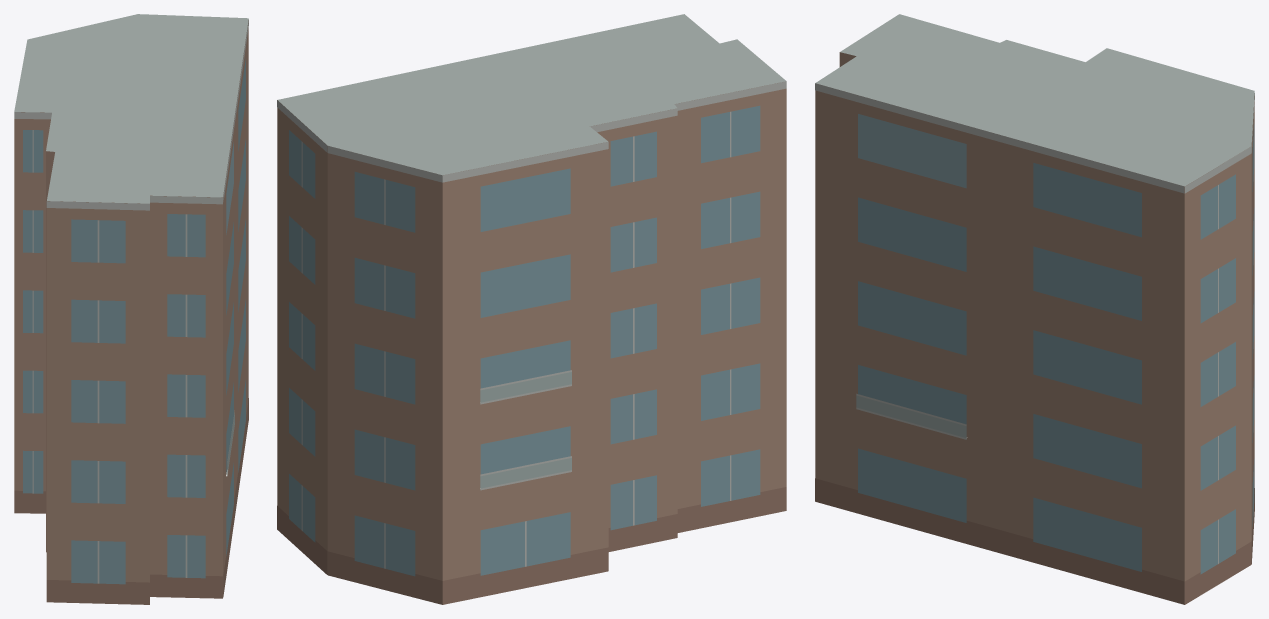
Rendered from survey-upis-33007244.glb.
3 views of the same model, side by side, from view 1: azimuth 30°, elevation 25°; view 2: azimuth 150°, elevation 25°; view 3: azimuth 270°, elevation 25° (orthographic). The views are drawn at different scales.
Visible parts, largest first — view 1: survey-upis-33007244.tmp; view 2: survey-upis-33007244.tmp; view 3: survey-upis-33007244.tmp.
Boxes of the visible parts, bbox=[...] form: survey-upis-33007244.tmp: bbox=[14, 14, 248, 604]; survey-upis-33007244.tmp: bbox=[277, 14, 786, 604]; survey-upis-33007244.tmp: bbox=[815, 14, 1254, 604].
Size of the model in its own units: 12.56 by 14.2 by 13.53.
